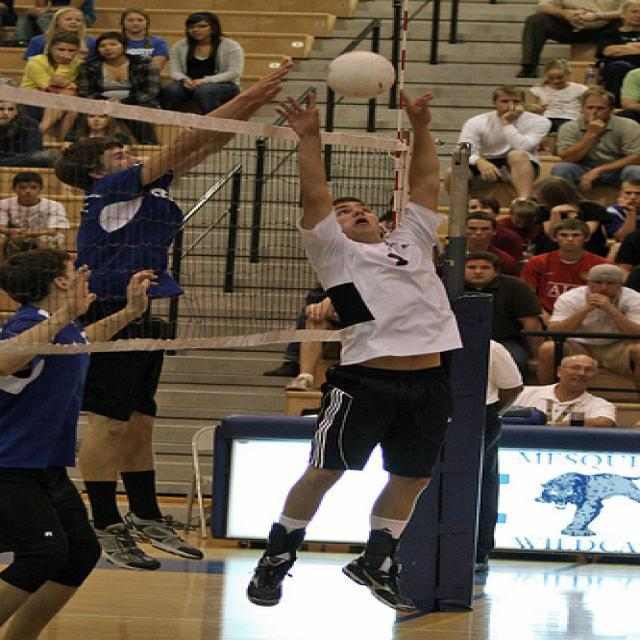volleyball: (326, 52, 394, 98)
